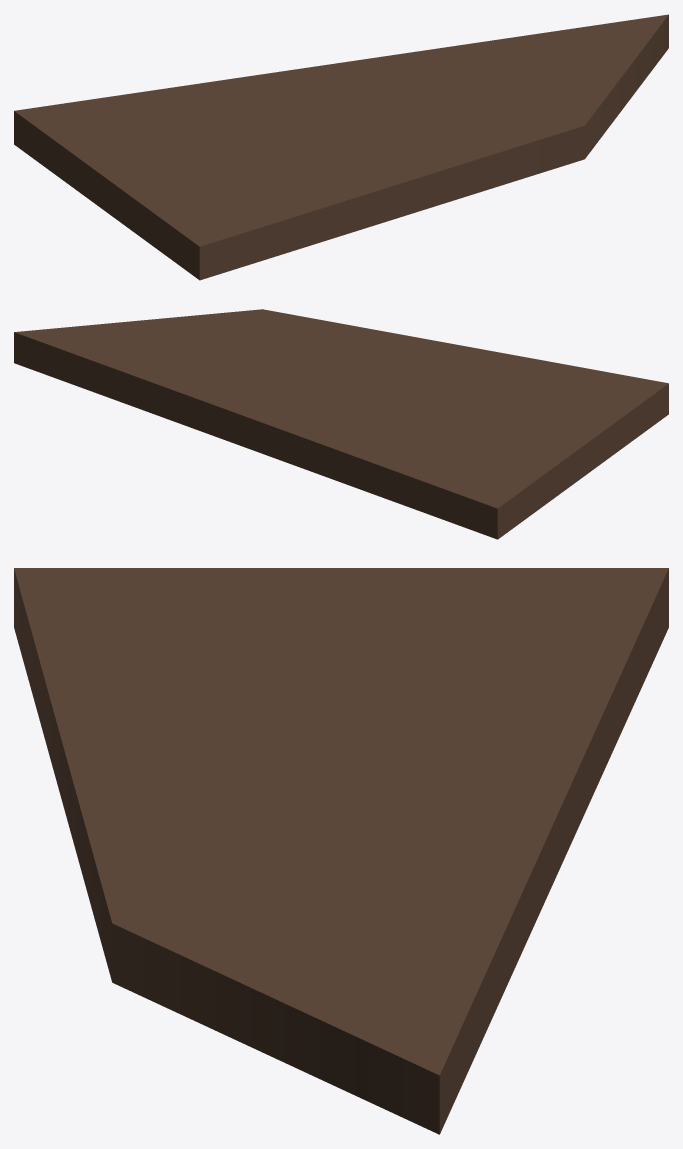
Rendered from Songbird_WingL.fbx.
3 renders of one model, top to bottom at view 1: azimuth 30°, elevation 25°; view 2: azimuth 150°, elevation 25°; view 3: azimuth 270°, elevation 25°, orthographic. The views are drawn at different scales.
Visible parts, largest first — view 1: Songbird_WingL_EXP; view 2: Songbird_WingL_EXP; view 3: Songbird_WingL_EXP.
Part boxes in pixels (x1,y1,x2,y2): Songbird_WingL_EXP: [14, 14, 668, 280]; Songbird_WingL_EXP: [14, 309, 668, 539]; Songbird_WingL_EXP: [14, 568, 668, 1134].
Bounding box in the file's own units: 0.11 × 0.006 × 0.06.
